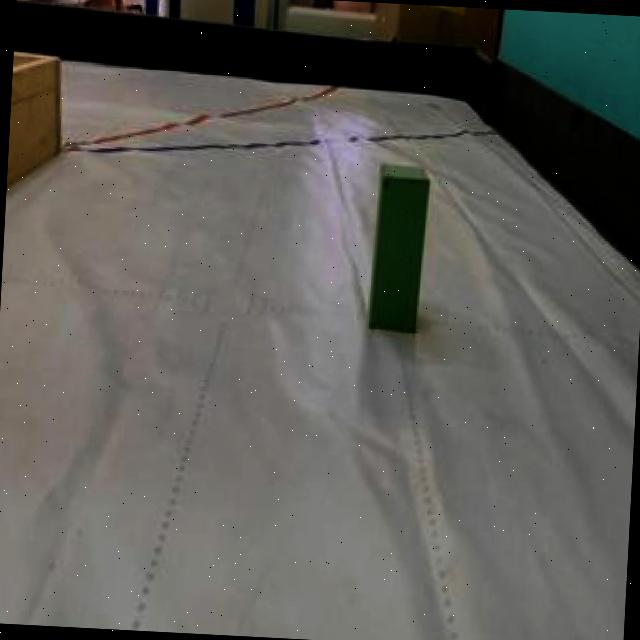greenbox: (365, 158, 430, 332)
